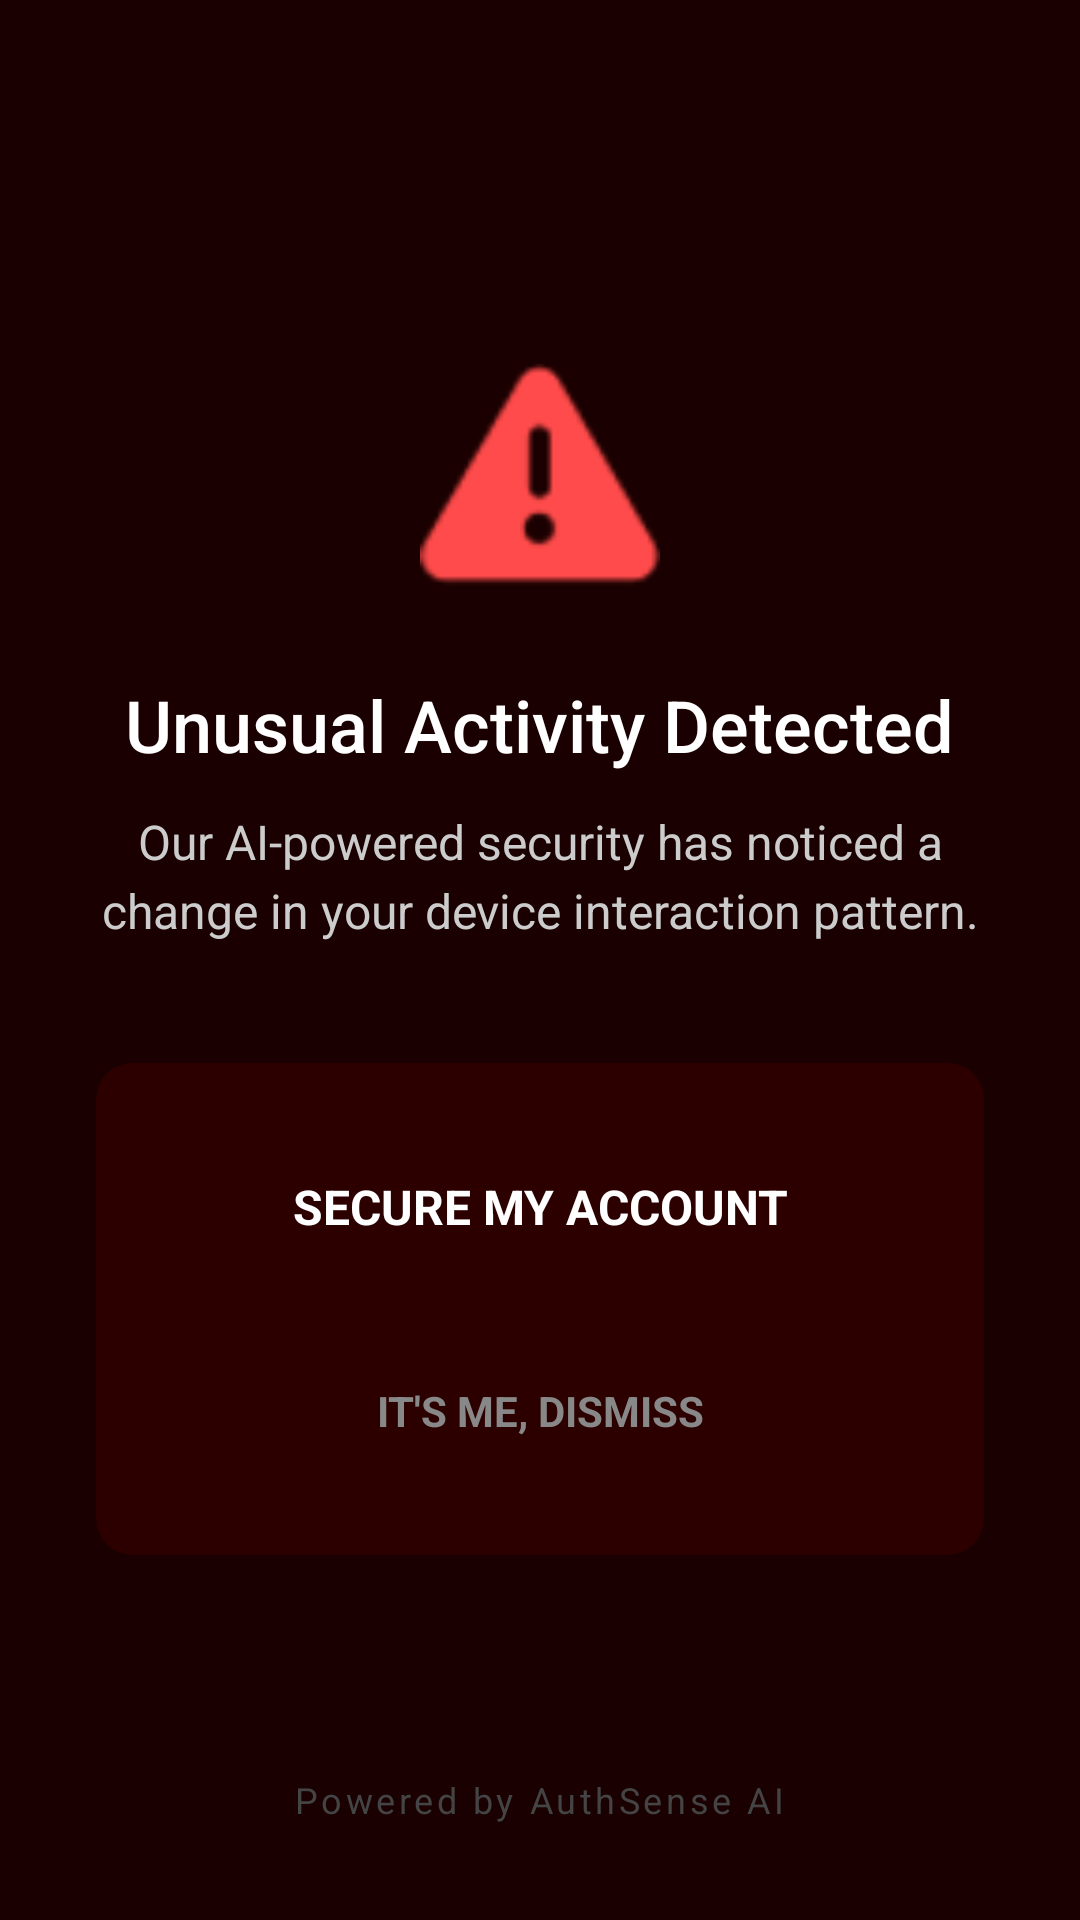

Icon bounding boxes for this 1080 × 1920 phone screenshot, format (x1=x1, y1=y1, x2=x2, y2=y2):
alert: (x1=420, y1=364, x2=660, y2=583)
